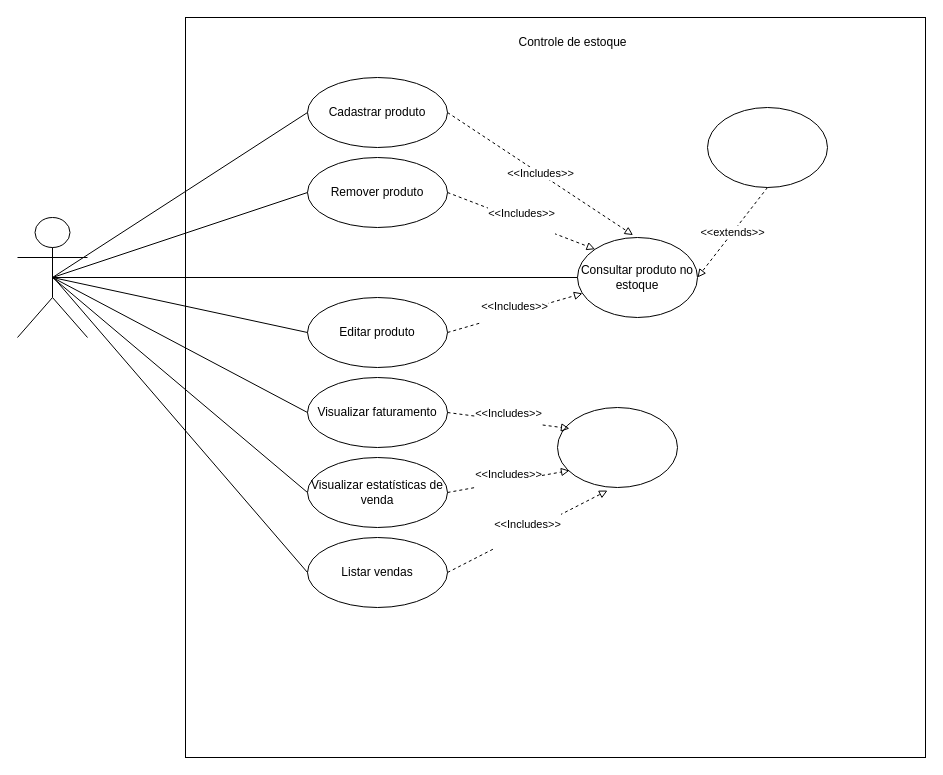
The diagram is 943 pixels wide and 775 high, and some of its shapes have lost their labels. The shapes that lost their labels are listed below. From the top down, each one's centre as x and y in pixels, then its label:
At [767,147]: "Alertar quando atingir uma quantidade no estoque".
At [52,277]: "Usuário".
At [617,447]: "Verificar vendas".
